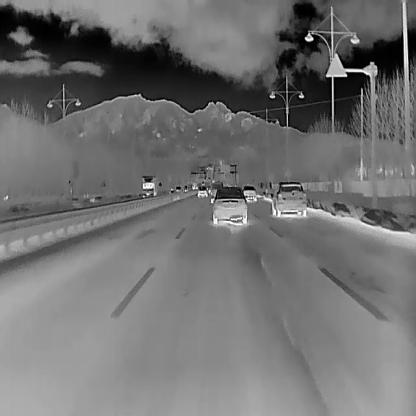car: (212, 186, 247, 224), (271, 180, 306, 216), (210, 181, 223, 202), (242, 186, 256, 202), (196, 185, 207, 197), (175, 184, 181, 192), (191, 181, 197, 189), (182, 184, 187, 192), (168, 188, 173, 194)
truck: (139, 175, 162, 198)
